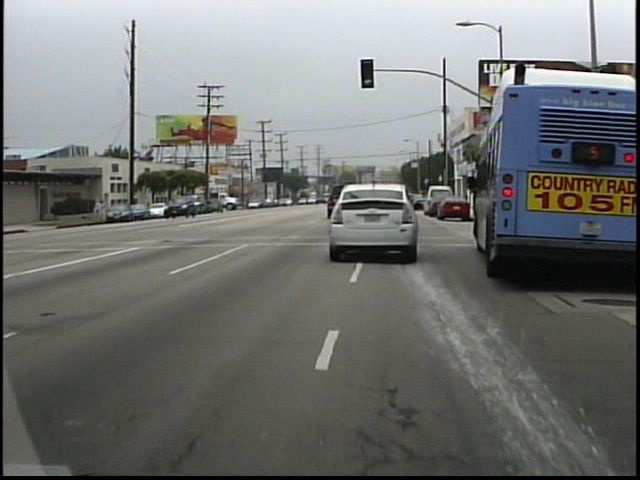person: (95, 196, 109, 222)
